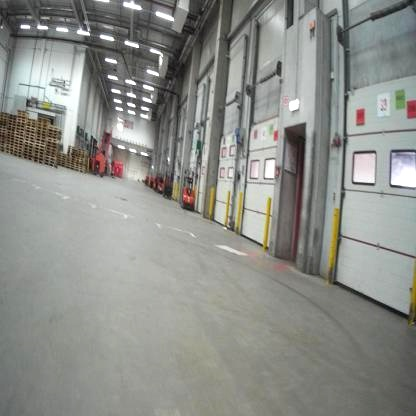pallets: (0, 103, 96, 186)
